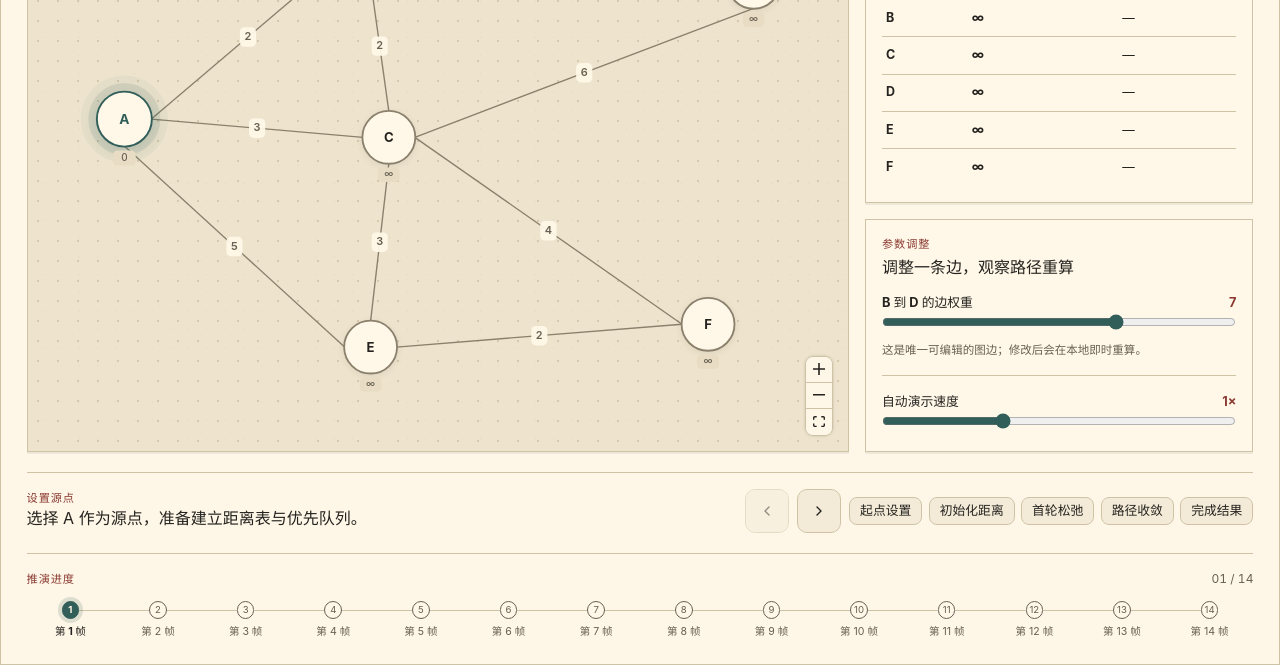
Test: DijkstraDemo › offers five useful static checkpoints instead of playback when reduced motion is enabled
(page scrolled)
expect the button "起点设置" is shown: met, box x1=849 y1=497 x2=922 y2=525
expect the button "初始化距离" is shown: met, box x1=929 y1=497 x2=1015 y2=525
Click the button "路径收敛" at (1137, 511), box x1=1101 y1=497 x2=1174 y2=525
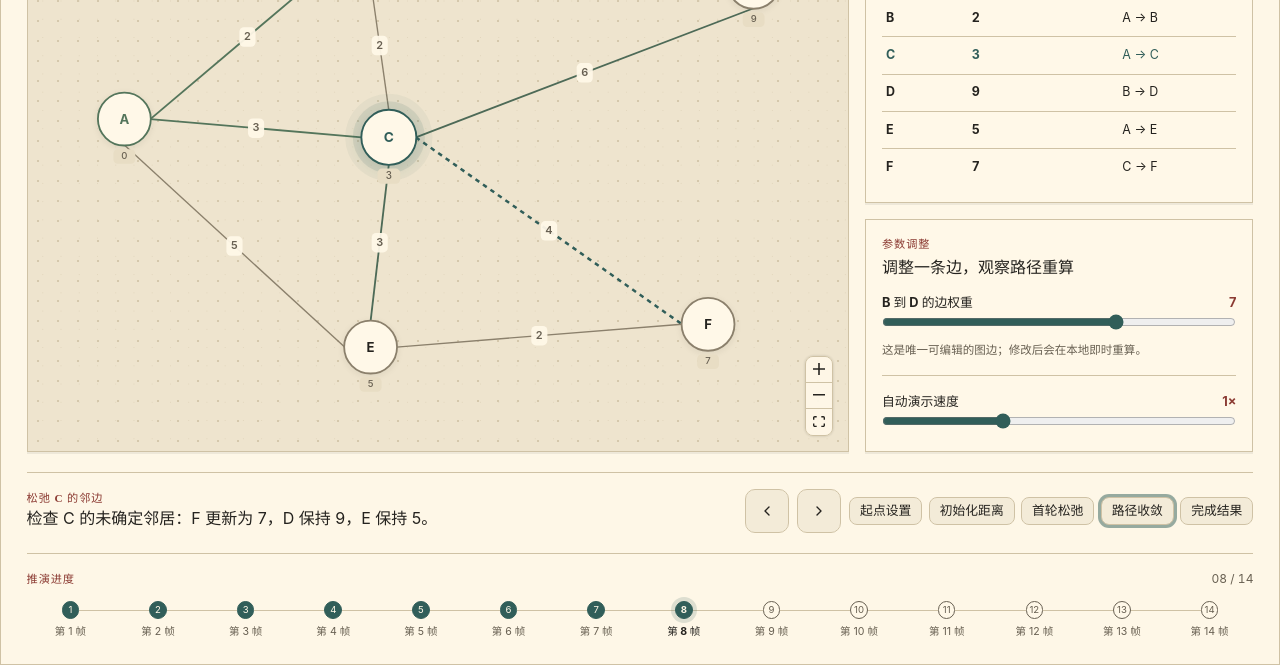
expect the text "松弛 C 的邻边" is shown: met, box x1=27 y1=492 x2=103 y2=504
Click the button "完成结果" at (1217, 511), box x1=1180 y1=497 x2=1253 y2=525
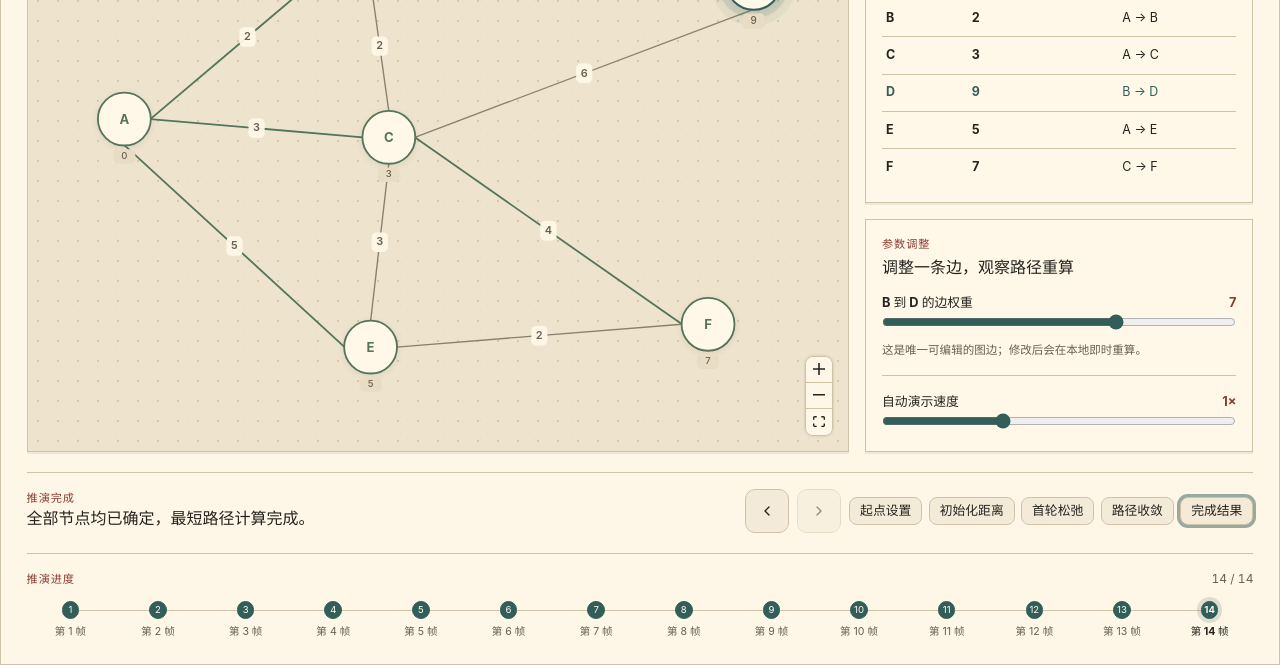
expect the text "推演完成" is shown: met, box x1=27 y1=492 x2=75 y2=504
